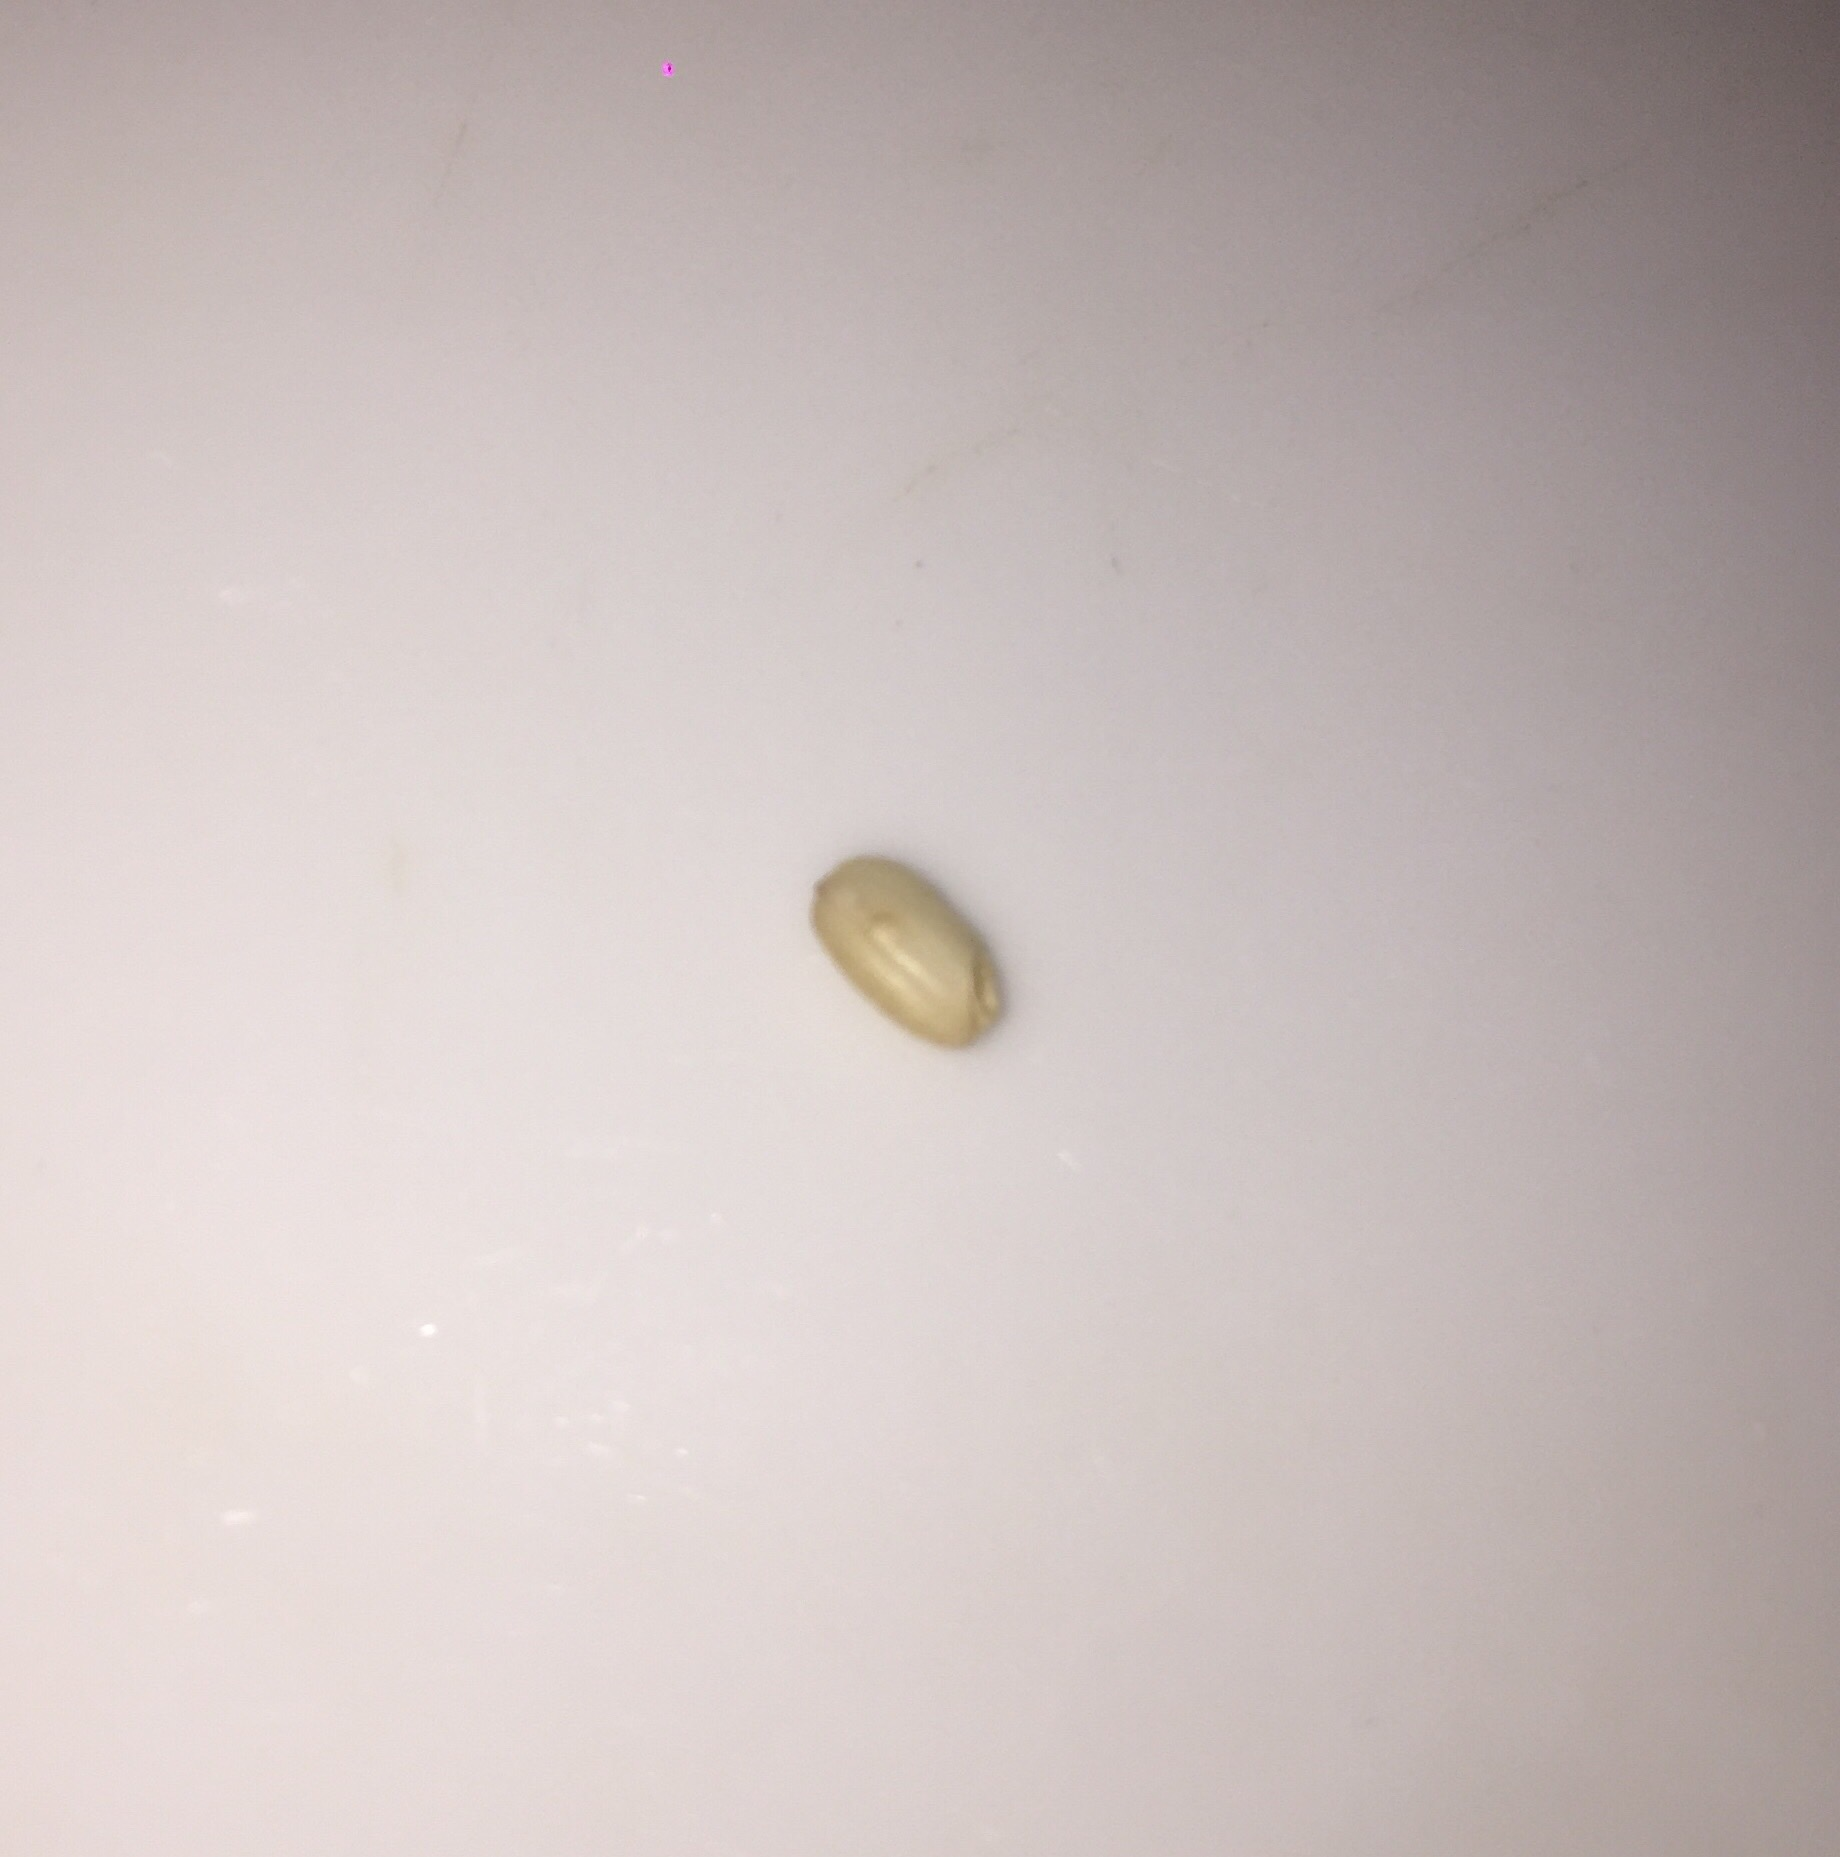Gao Lut Bac: (790, 799, 1009, 1073)
